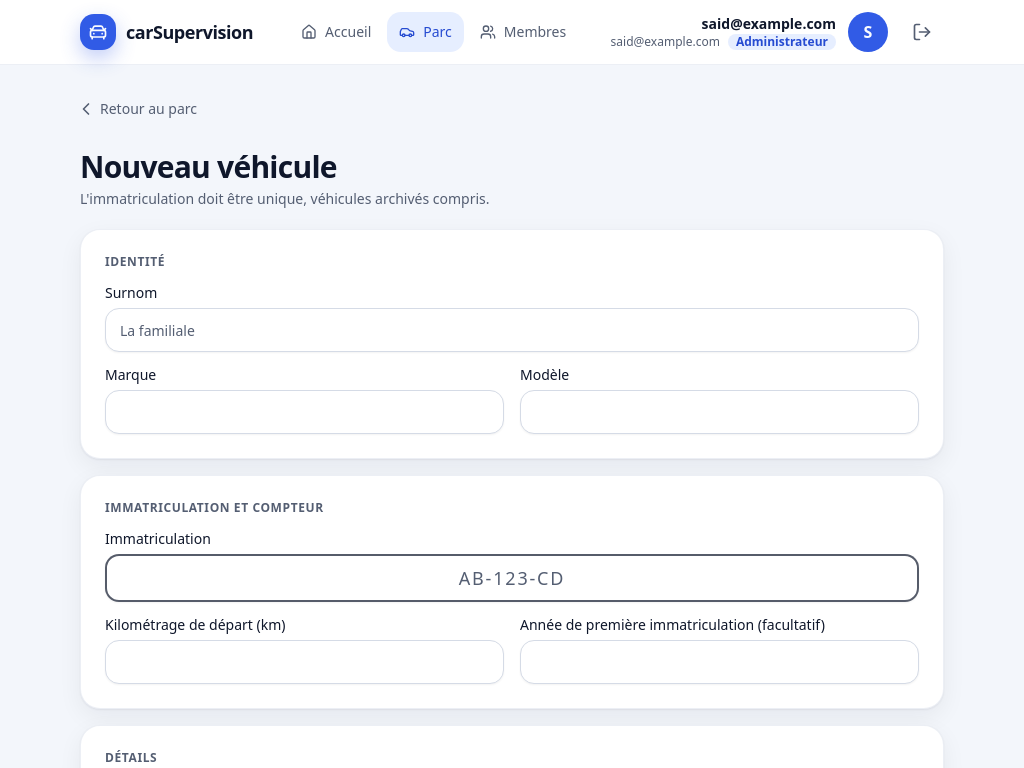
parc de véhicules › refuse un VIN invalide avant l’envoi
The image size is (1024, 768).
Type "Citadine" into the field labelled "Surnom".
click(512, 330); type("Citadine")  # box [105,308,919,352]
Type "Renault" into the field labelled "Marque".
click(304, 412); type("Renault")  # box [105,390,504,434]
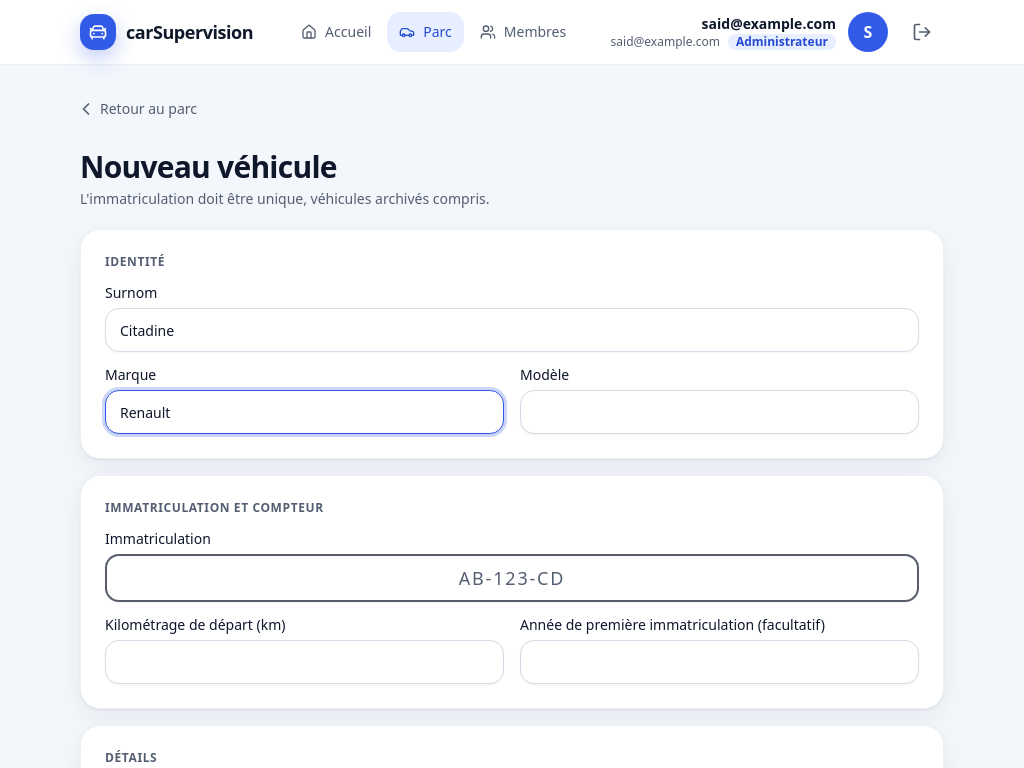
Type "Clio" into the field labelled "Modèle".
click(720, 412); type("Clio")  # box [520,390,919,434]
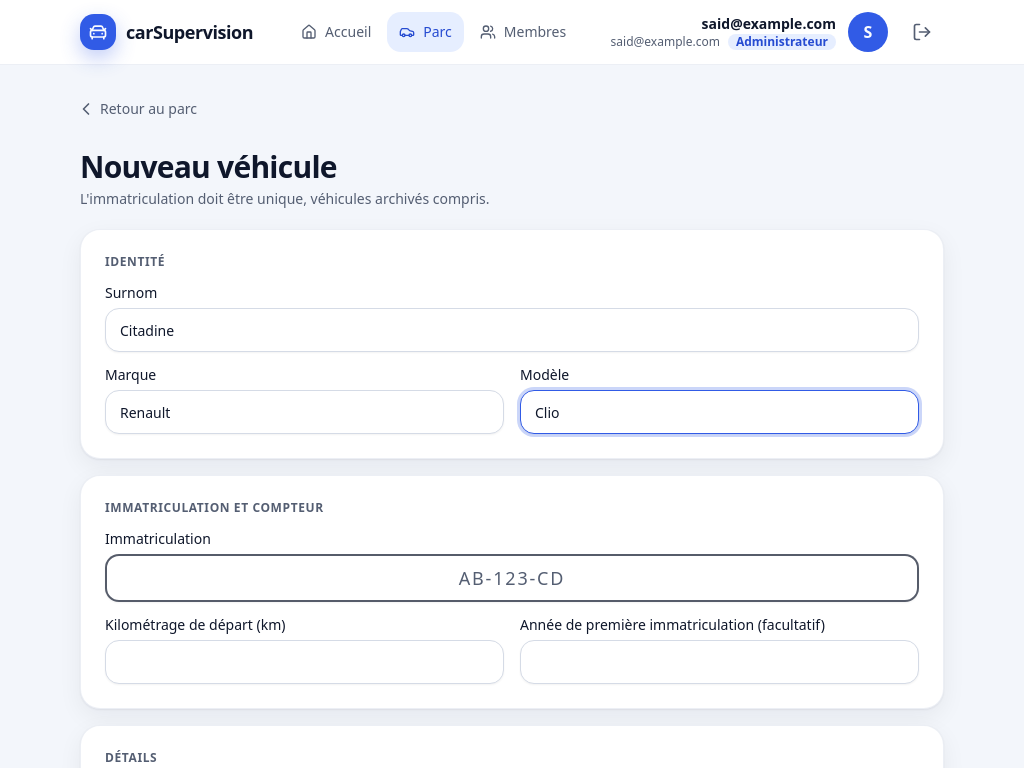
Type "ab-123 cd" into the field labelled "Immatriculation".
click(512, 578); type("ab-123 cd")  # box [105,554,919,602]
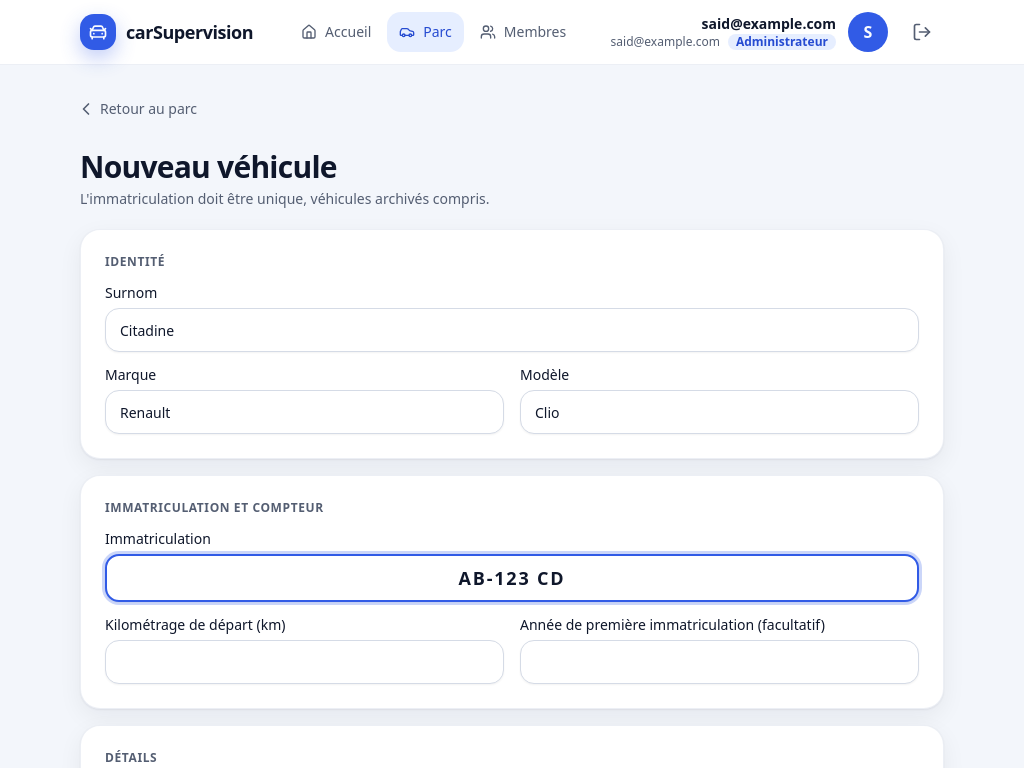
Type "12000" into the field labelled "Kilométrage de départ (km)".
click(304, 662); type("12000")  # box [105,640,504,684]
(page scrolled)
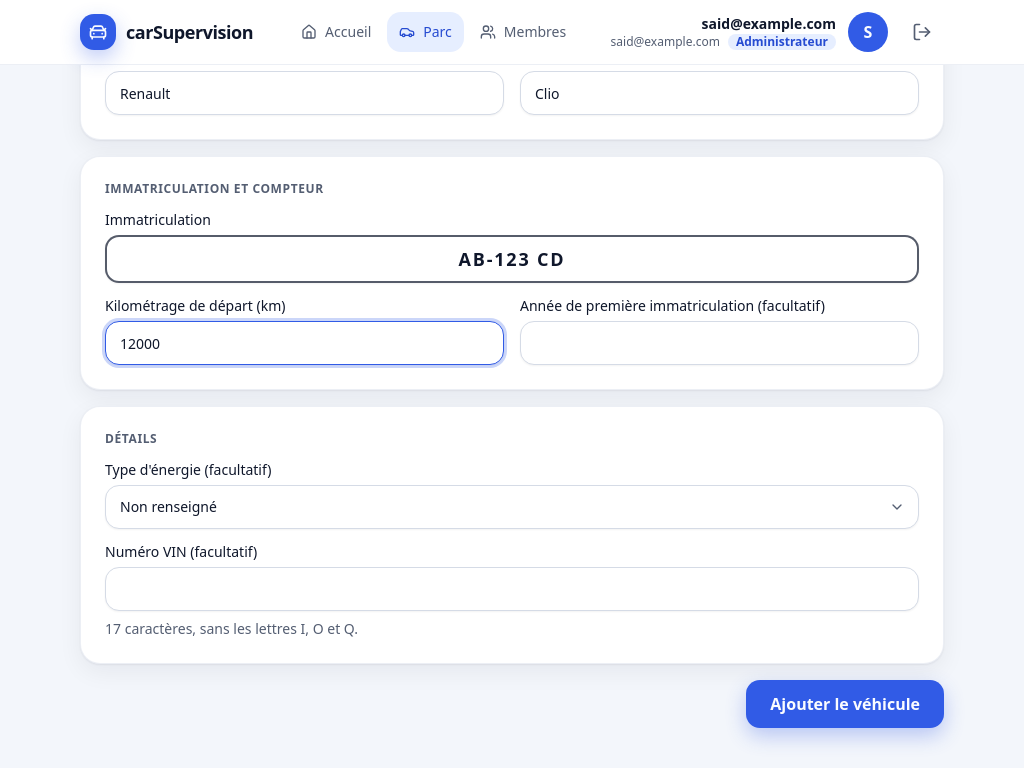
Type "VF3MCYHZRKS12345O" into the field labelled "Numéro VIN (facultatif)".
click(512, 589); type("VF3MCYHZRKS12345O")  # box [105,567,919,611]
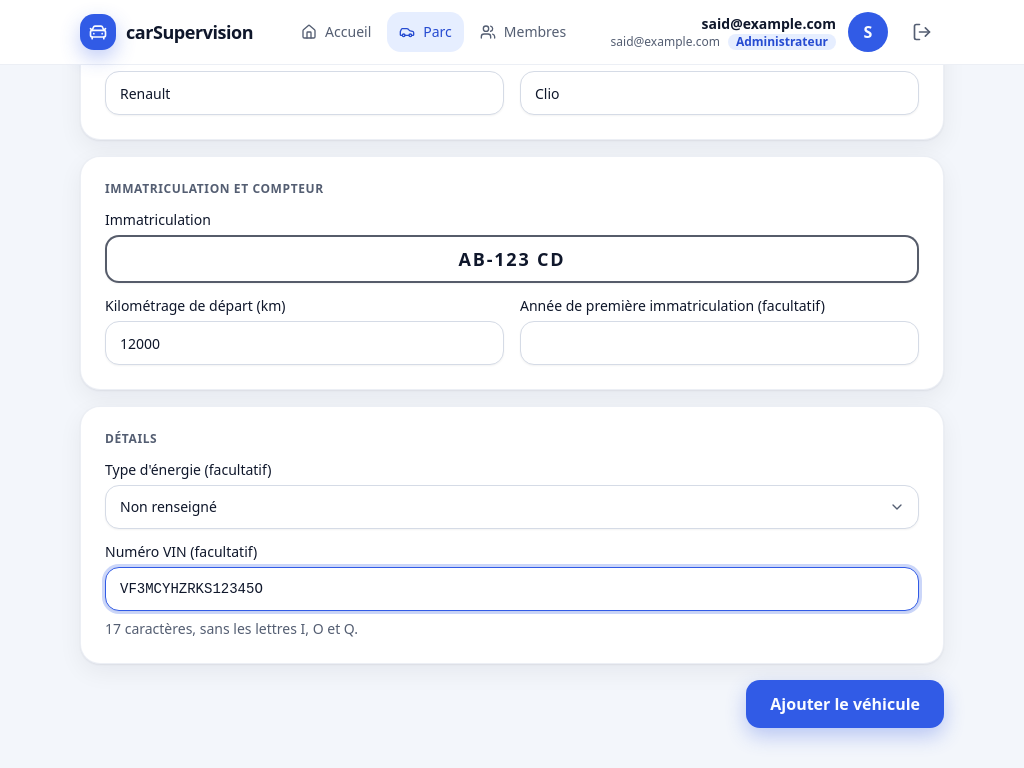
Click the button "Ajouter le véhicule".
click(845, 704)  # box [746,680,944,728]
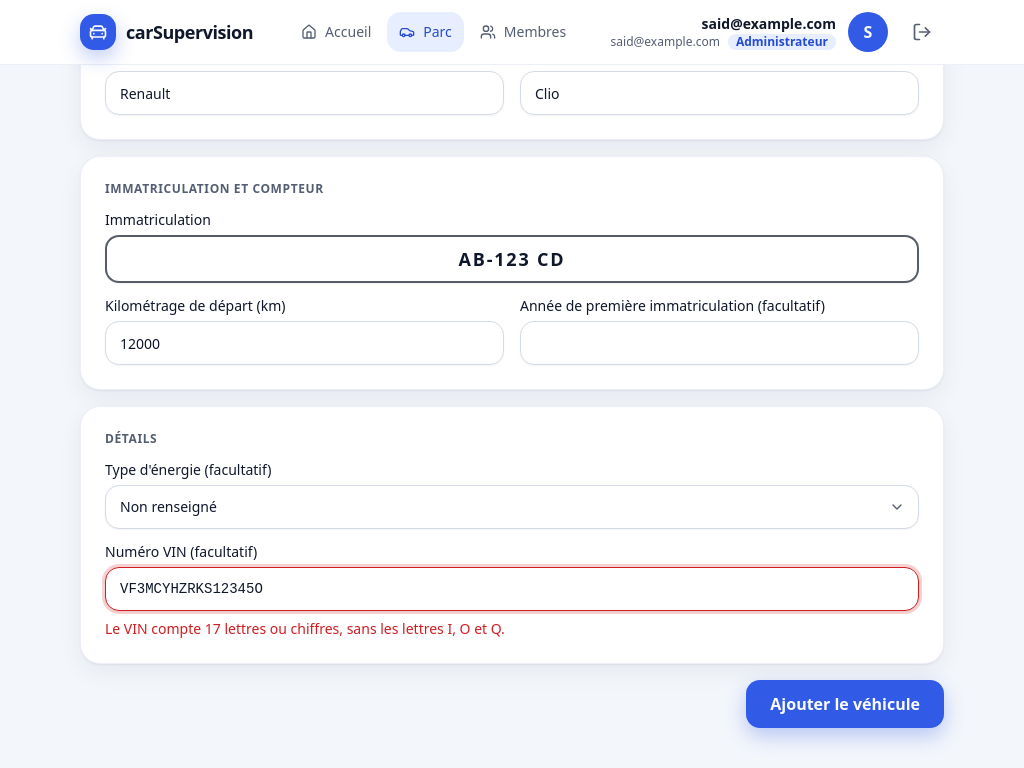
Result: the text "Le VIN compte 17 lettres ou chiffres, sans les lettres I, O et Q." is shown at [105,619,505,638]
